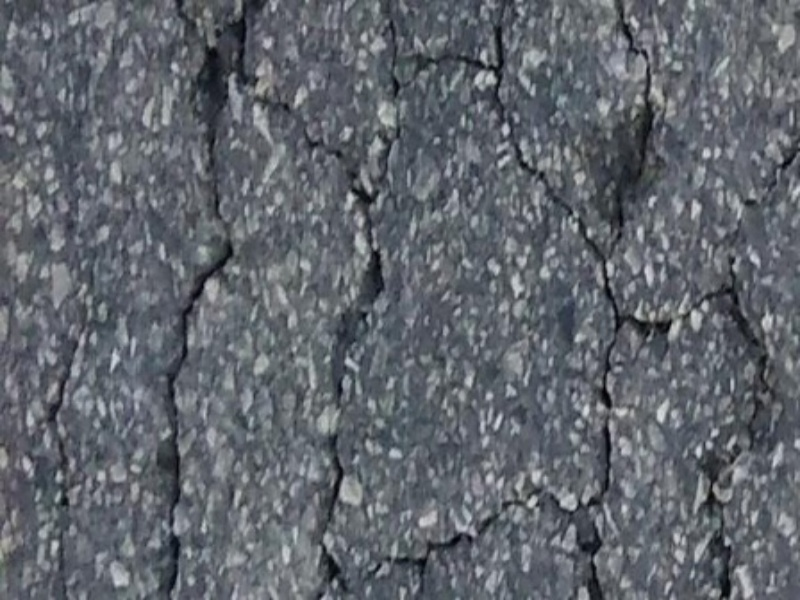crack: (465, 24, 634, 502), (137, 17, 272, 587), (257, 91, 386, 589), (699, 158, 795, 599), (348, 18, 463, 218), (580, 9, 672, 256), (15, 313, 89, 592), (372, 502, 609, 580), (594, 284, 748, 357)
